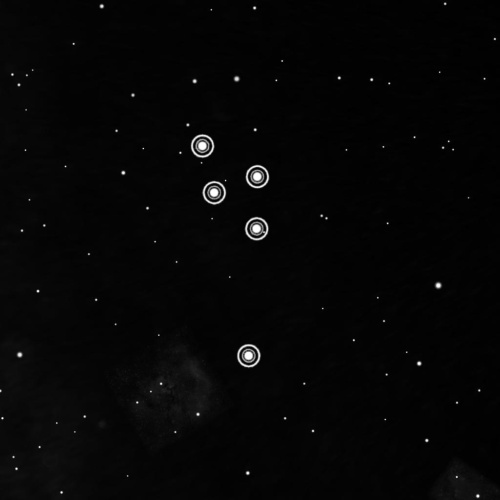delphinus: (179, 121, 277, 377)
